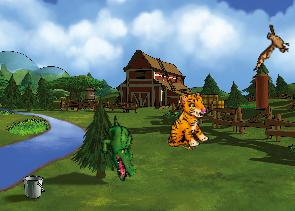crocodile: (88, 114, 151, 183)
eagle: (253, 23, 290, 71)
tiger: (159, 90, 214, 152)
